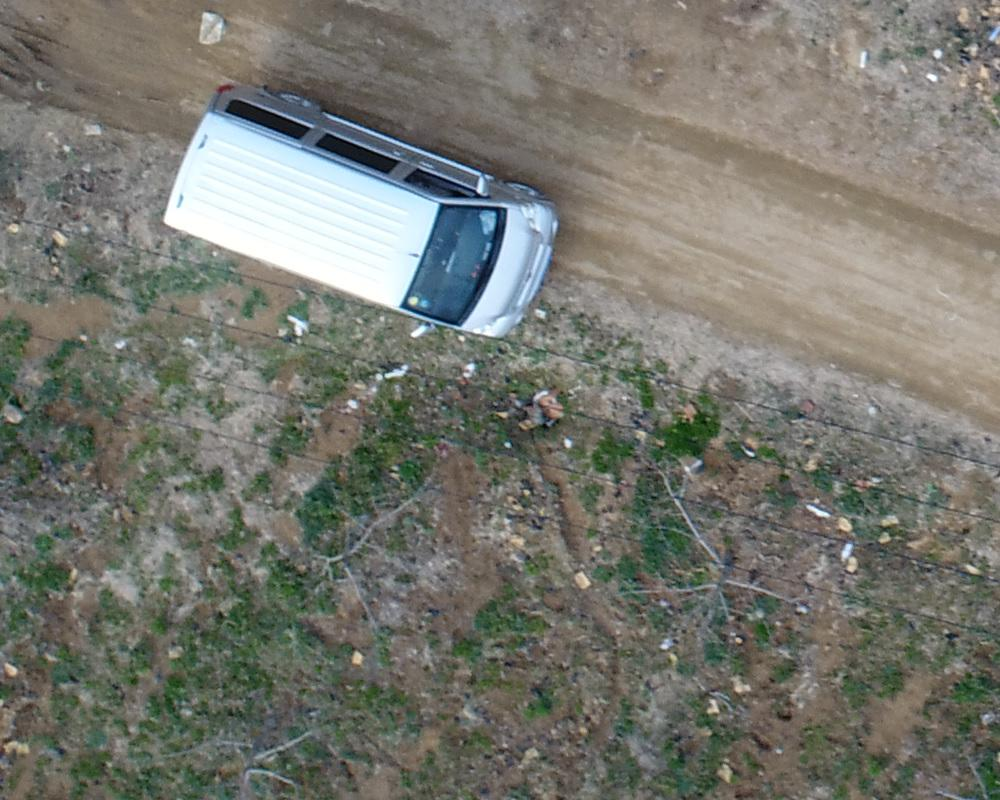apple: (602, 464, 818, 684), (243, 439, 493, 623), (170, 696, 361, 790)
